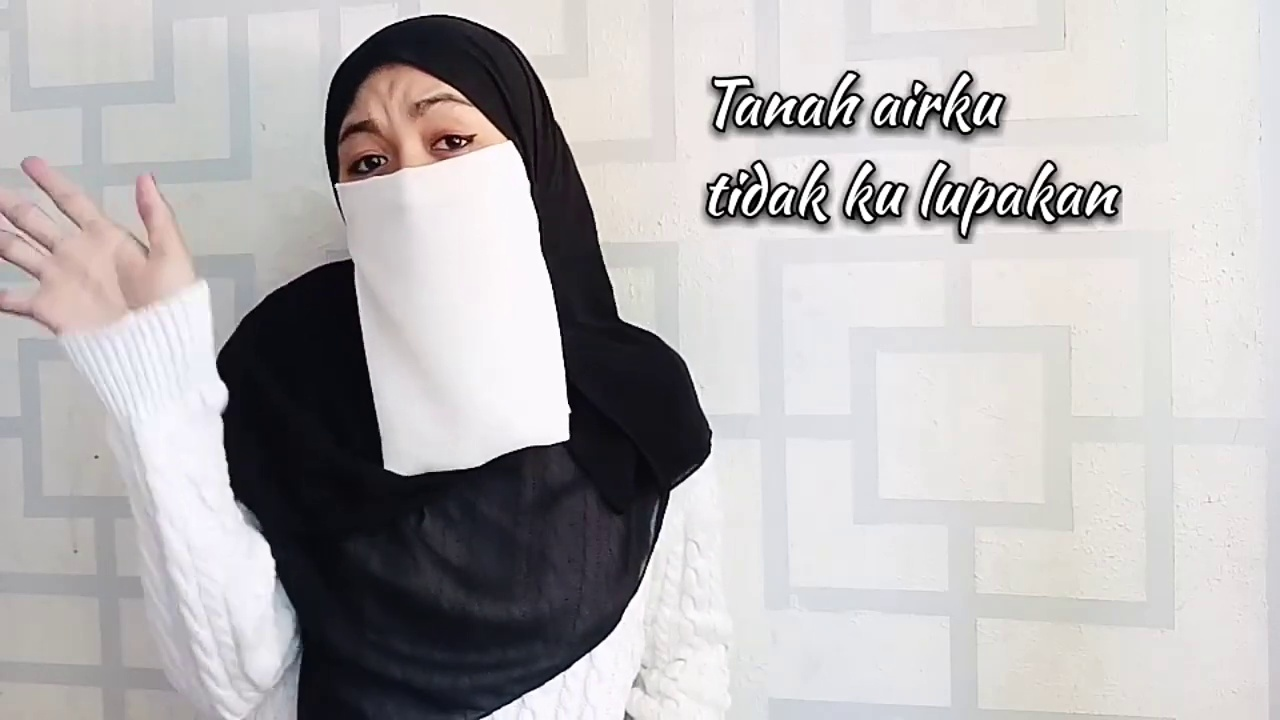TIDAK KU LUPAKAN: (2, 12, 573, 448)
